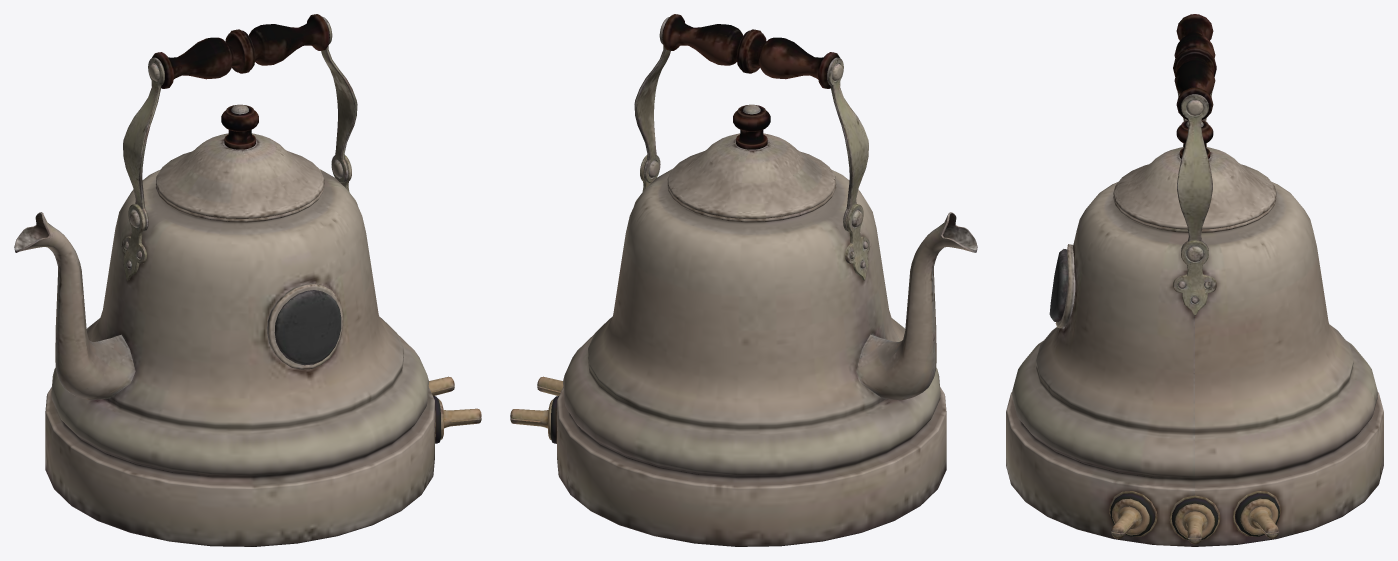
3 renders of one model, left to right at view 1: azimuth 30°, elevation 25°; view 2: azimuth 150°, elevation 25°; view 3: azimuth 270°, elevation 25°, orthographic. The views are drawn at different scales.
Parts seen in each view (by area): view 1: vintage_electric_kettle; view 2: vintage_electric_kettle; view 3: vintage_electric_kettle.
Part boxes in pixels (left/top/right/bottom): vintage_electric_kettle: left=14, top=14, right=481, bottom=546; vintage_electric_kettle: left=510, top=14, right=977, bottom=546; vintage_electric_kettle: left=1006, top=14, right=1383, bottom=546.
Size of the model in its own units: 0.3209 by 0.3047 by 0.2486.
Materials: 2 (2 with a texture image).
